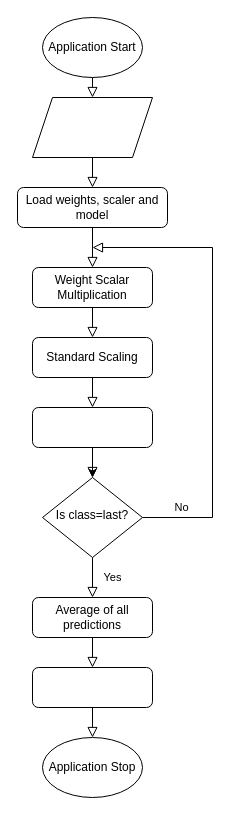
The diagram is 240 pixels wide and 815 high, and some of its shapes have lost their labels. The shapes that lost their labels are listed below. From the top down, each one's centre as x and y in pixels, then its label:
(x=92, y=127): Input X vector
(x=92, y=427): Model Predict
(x=92, y=687): Route to Result page with predicition
